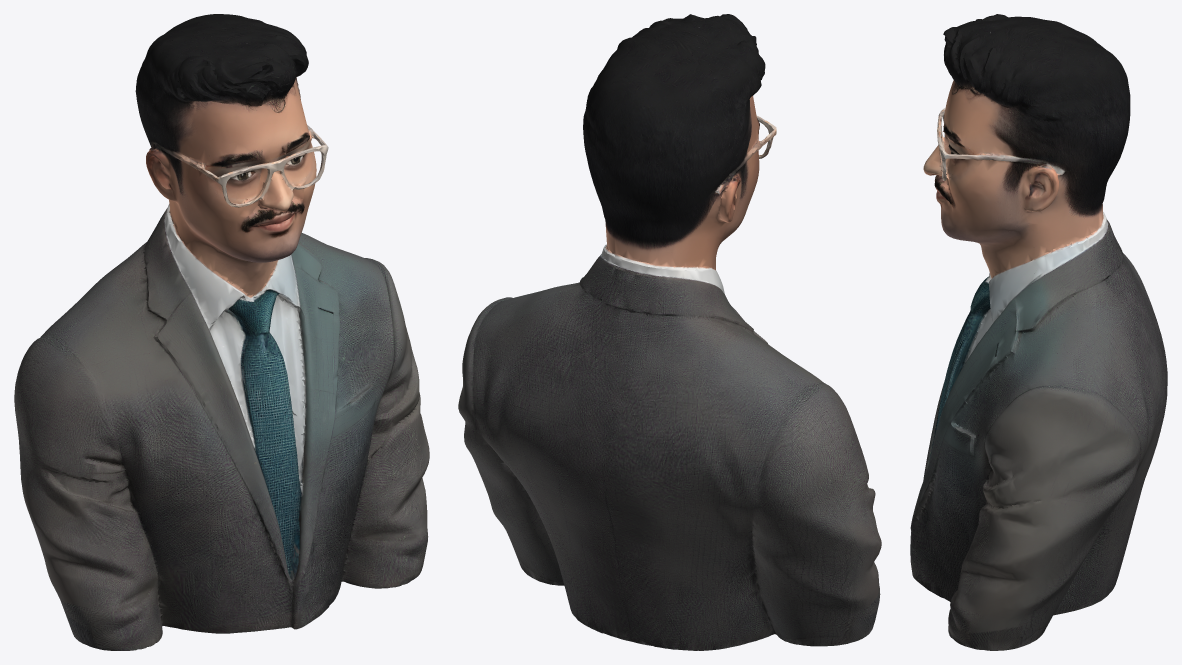
The picture shows the model from 3 angles, left to right: view 1: azimuth 30°, elevation 25°; view 2: azimuth 150°, elevation 25°; view 3: azimuth 270°, elevation 25°; orthographic projection. The views are drawn at different scales.
Size of the model in its own units: 1.38 by 1.91 by 0.825.
1 material, 1 textured.
